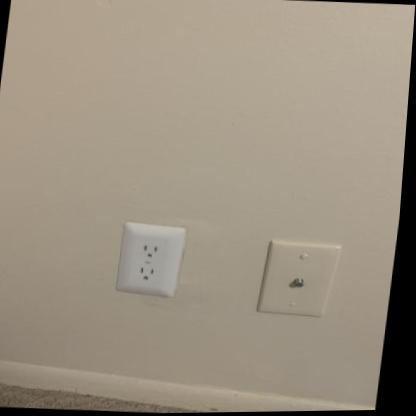OUTLET: (115, 220, 185, 297)
